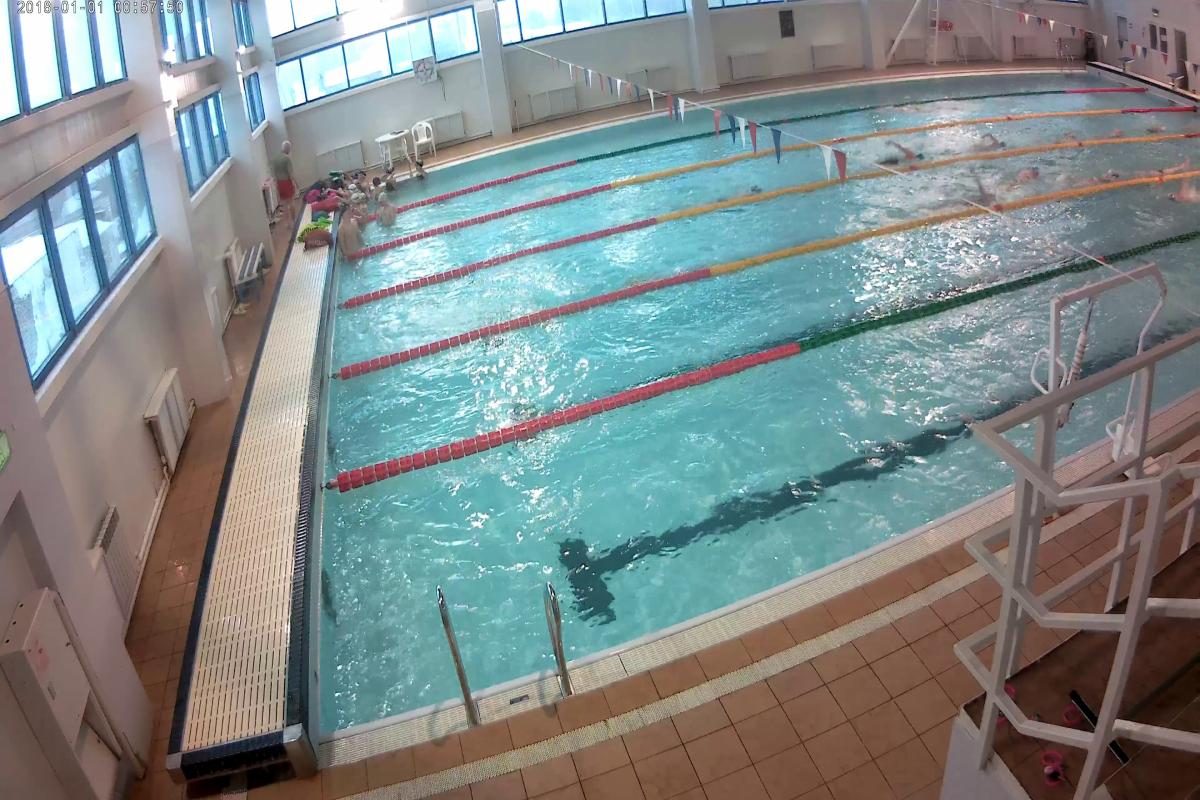swimmer: (877, 137, 928, 167), (1144, 151, 1190, 175), (1010, 160, 1048, 189), (1161, 178, 1196, 208), (976, 127, 1011, 153), (1092, 164, 1124, 186)
